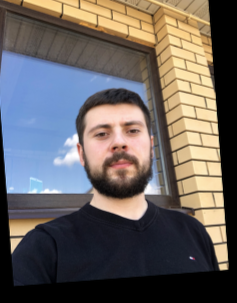without_mask: (83, 116, 152, 199)
